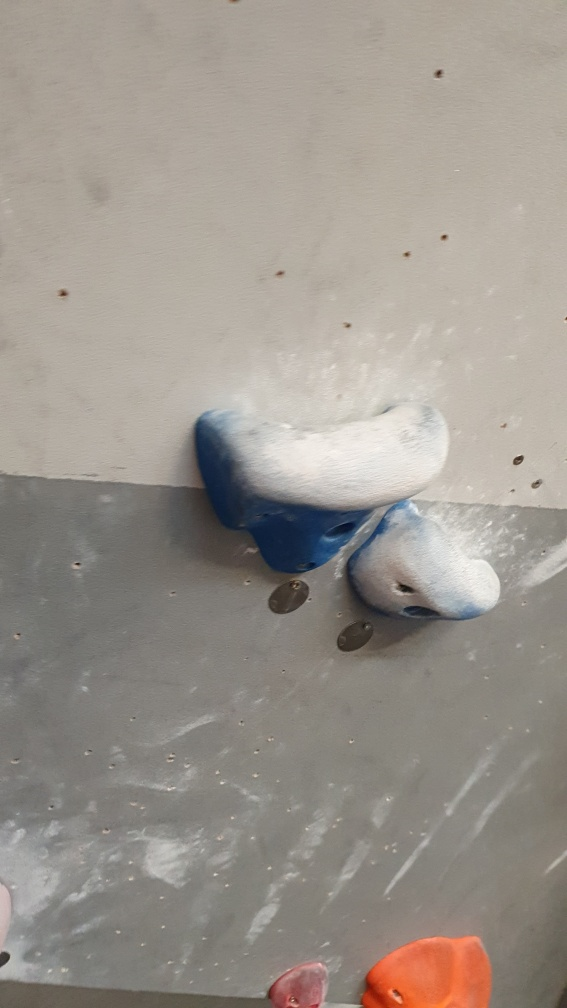Hand Start: (330, 614, 383, 665), (263, 577, 312, 617)
Jug: (195, 398, 453, 578), (340, 495, 505, 637)
